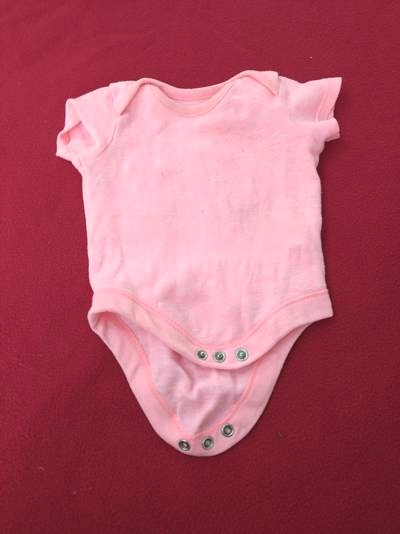Body: (48, 59, 359, 477)
